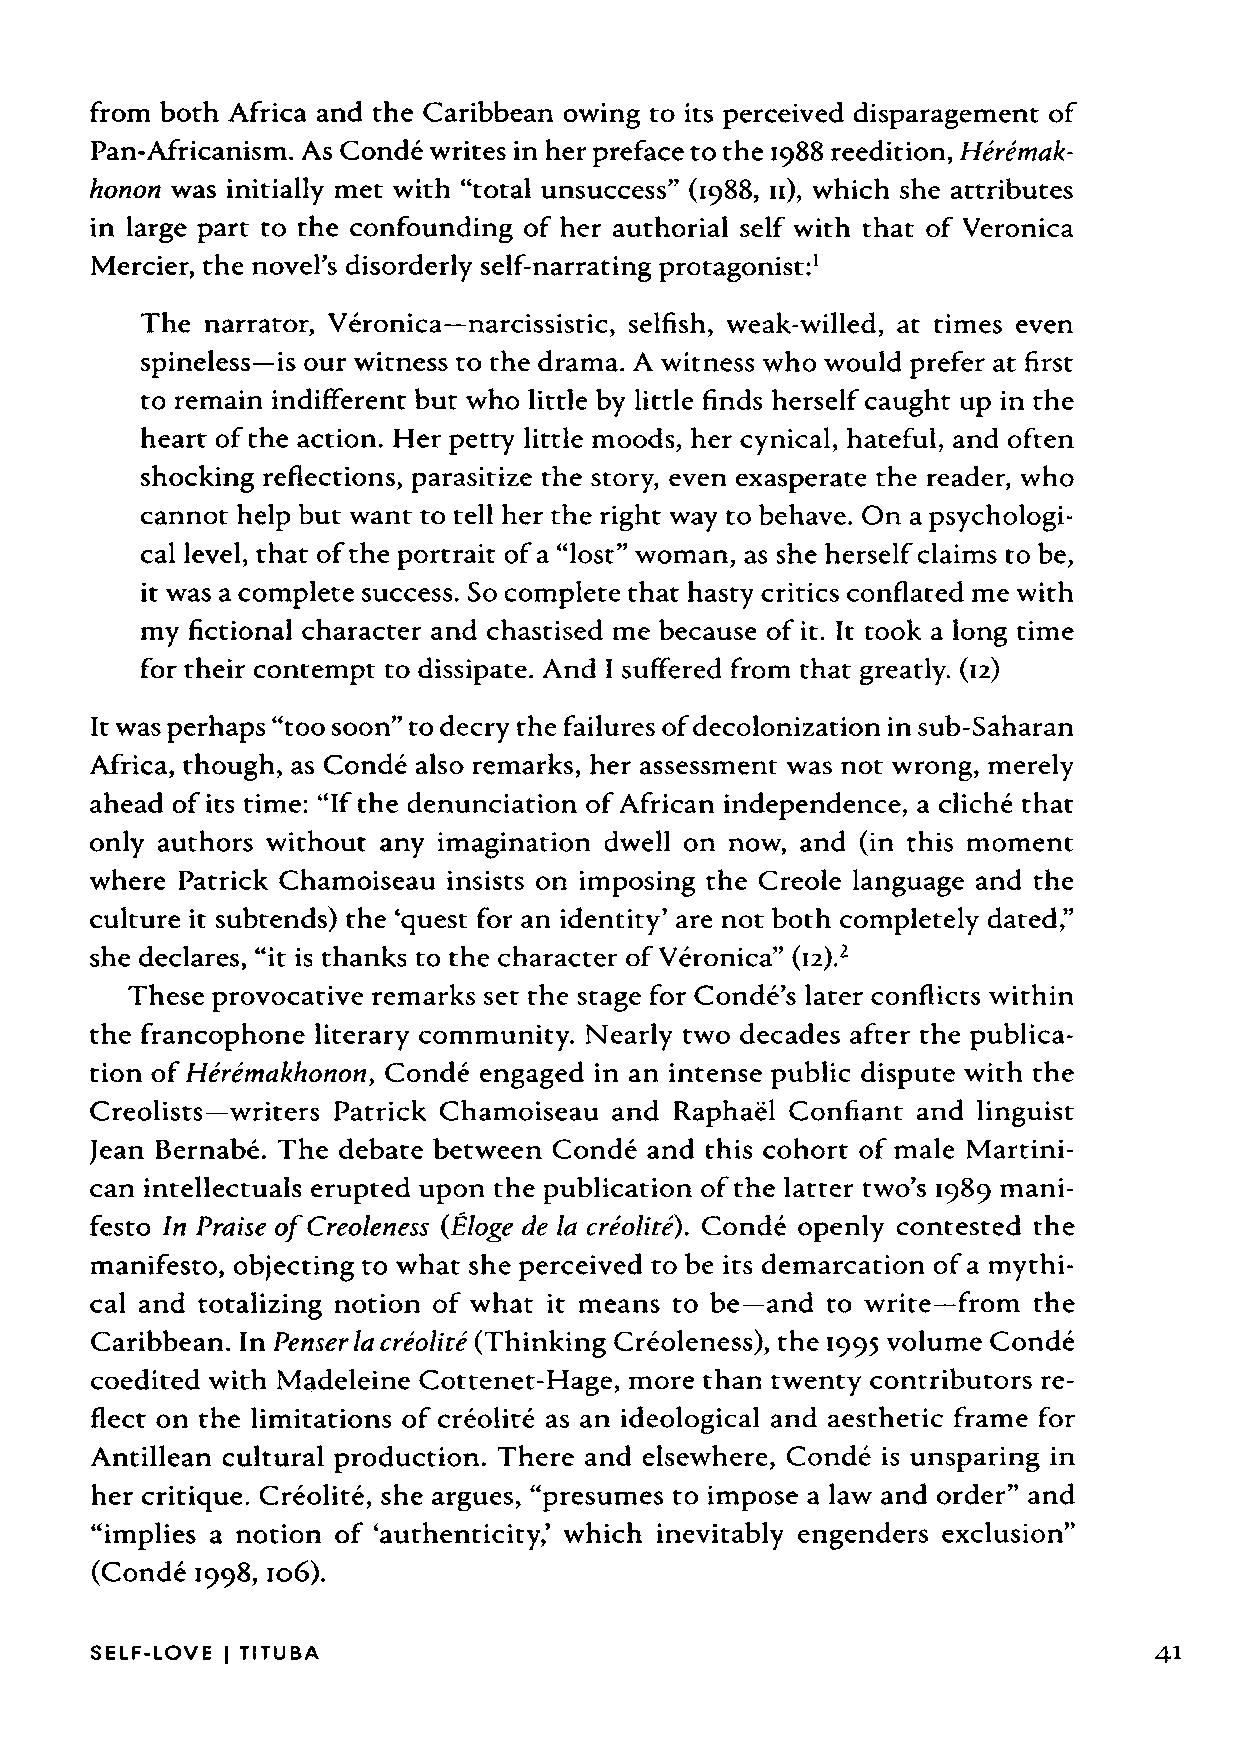content: (86, 93, 1088, 1592)
content_chapter: (89, 1639, 319, 1661)
content_pagenumber: (1149, 1636, 1184, 1667)
